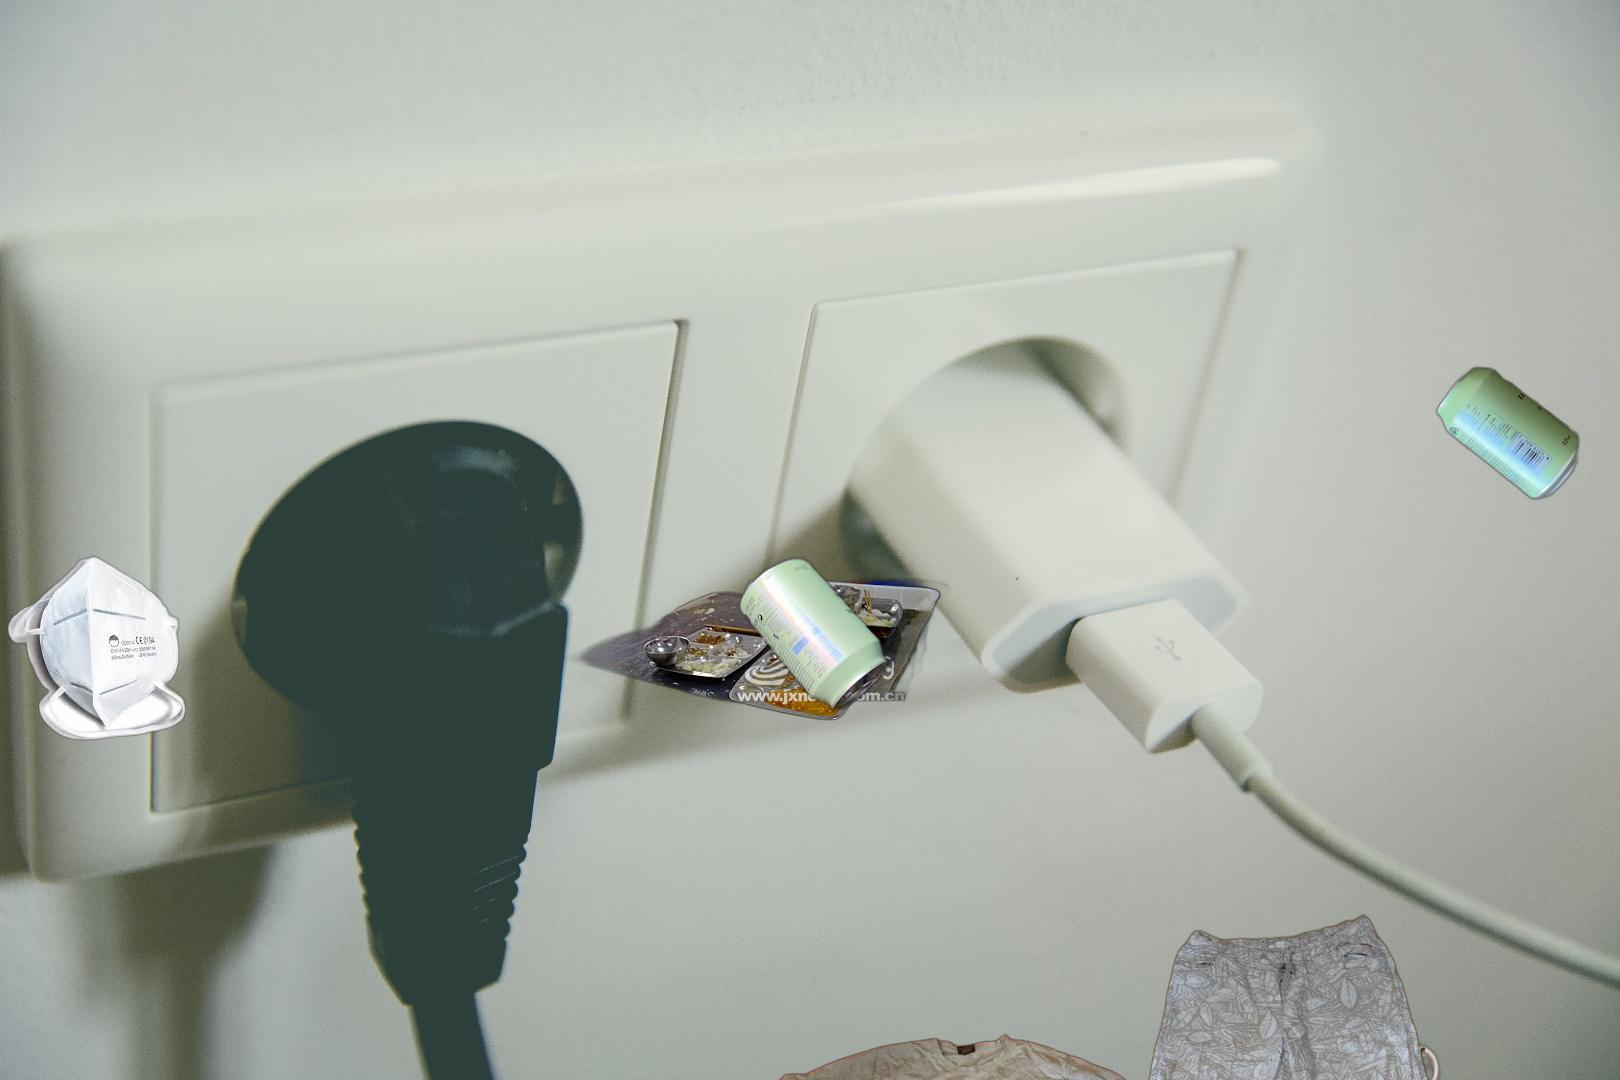biological: (526, 573, 968, 723)
clothes: (1085, 910, 1460, 1080), (765, 961, 1222, 1080), (1232, 1025, 1569, 1080)
metal-cans: (736, 538, 1202, 929), (1433, 360, 1584, 505)
trash: (4, 554, 188, 742)
trashbox-cardboard: (1370, 189, 1620, 1072)
